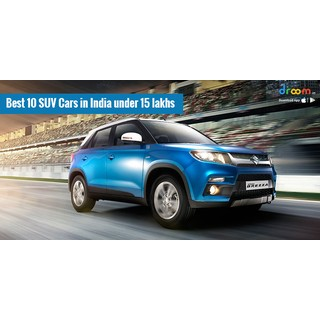car: (67, 117, 277, 229)
